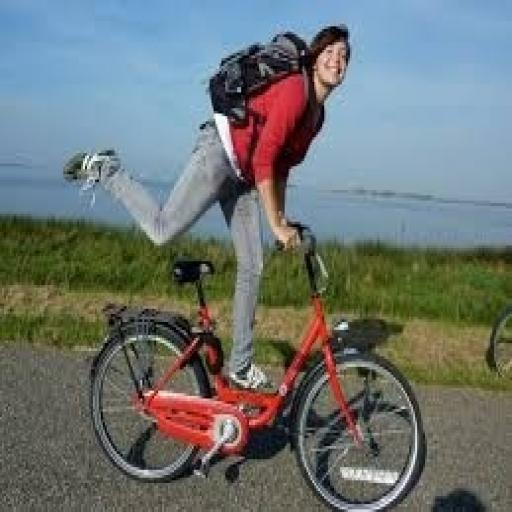cycling: (61, 21, 356, 399)
